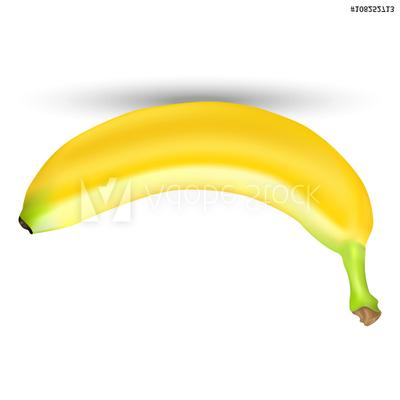banana: (0, 0, 400, 400)
